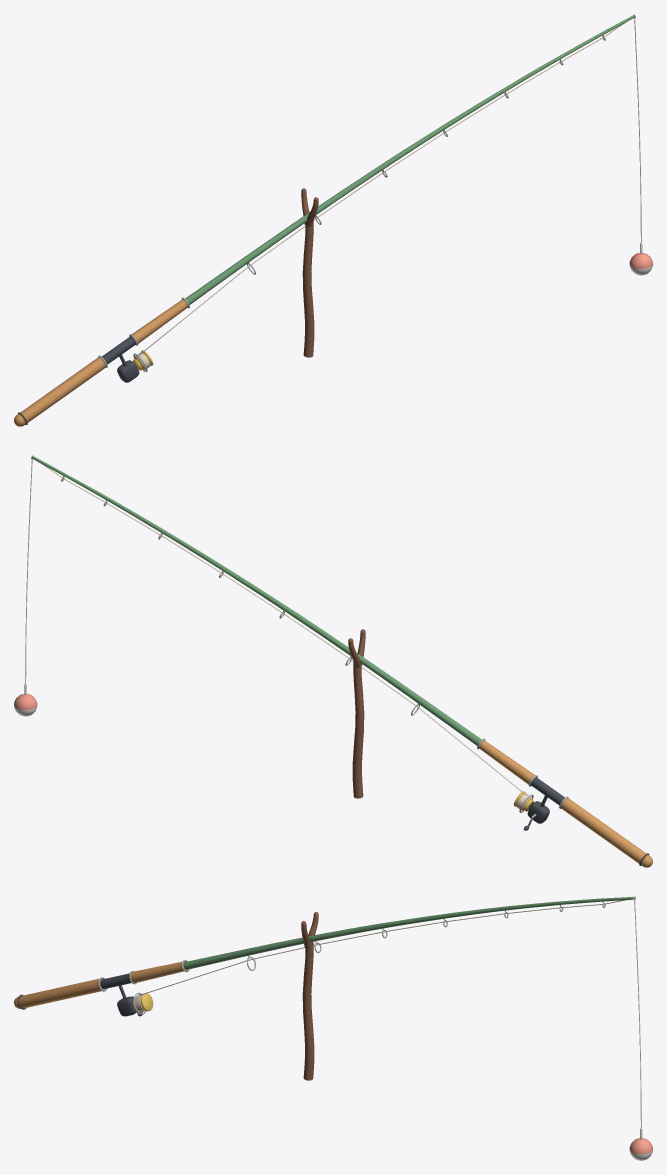
Rendered from rod.glb.
3 renders of one model, top to bottom at view 1: azimuth 30°, elevation 25°; view 2: azimuth 150°, elevation 25°; view 3: azimuth 330°, elevation 25°, orthographic.
Visible parts, largest first — view 1: fishing-rod_body; view 2: fishing-rod_body; view 3: fishing-rod_body.
Part boxes in pixels (box(x1,y1,x2,y2)): fishing-rod_body: box(14, 14, 652, 426); fishing-rod_body: box(14, 455, 652, 867); fishing-rod_body: box(14, 896, 652, 1160).
Bounding box in the file's own units: 1.9 × 0.7464 × 0.0864.
Materials: 1 (1 with a texture image).
